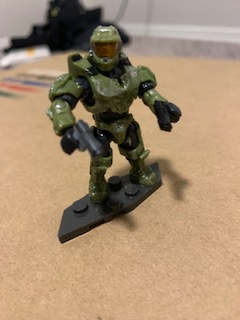chief: (48, 24, 184, 203)
pistol: (64, 120, 102, 165), (150, 97, 179, 136)
spartan: (46, 22, 182, 201)
